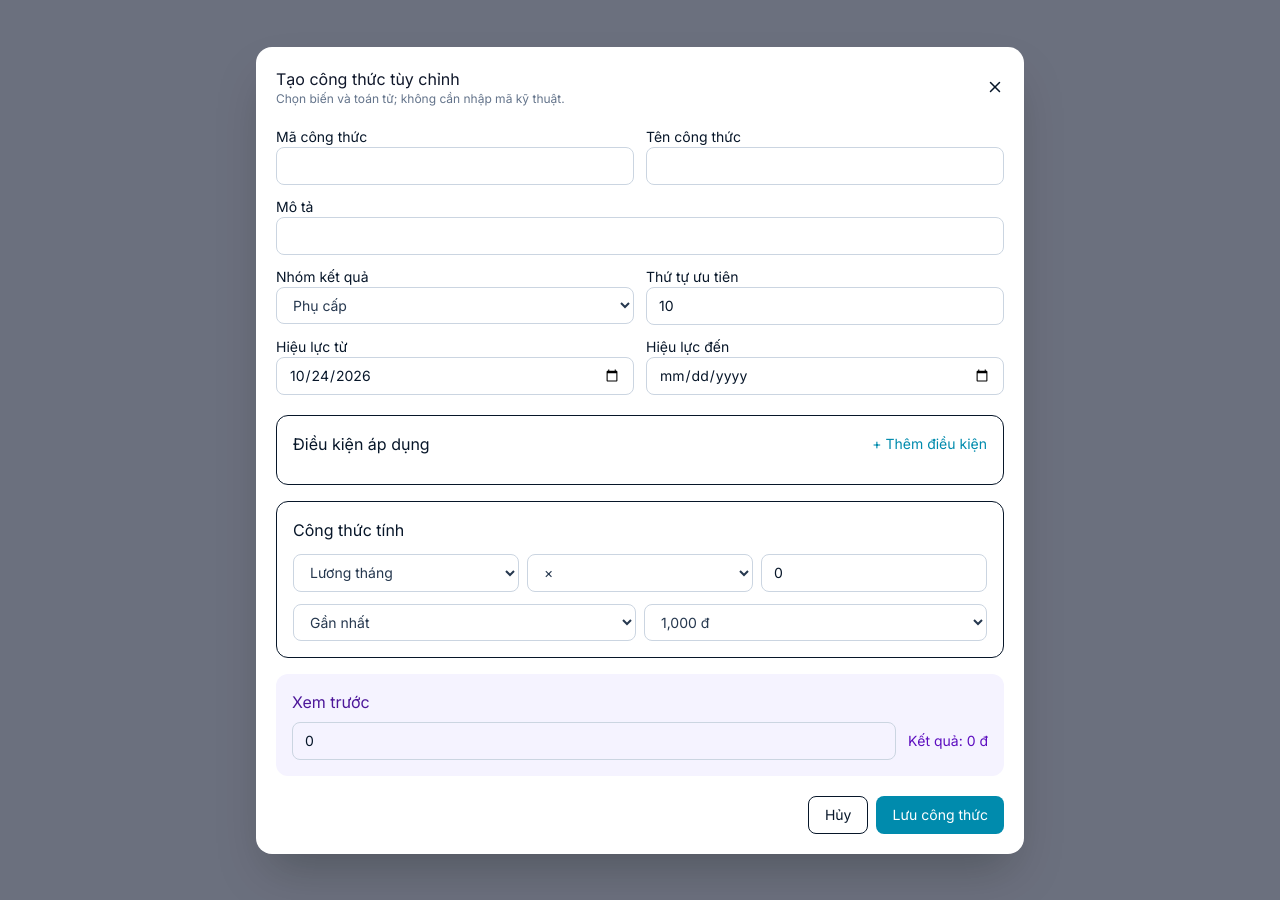
Test: PayrollFormulaModal › shows field errors instead of submitting invalid metadata
Step 1. Click the button "Lưu công thức" → (940, 814), box [876,796,1004,834]
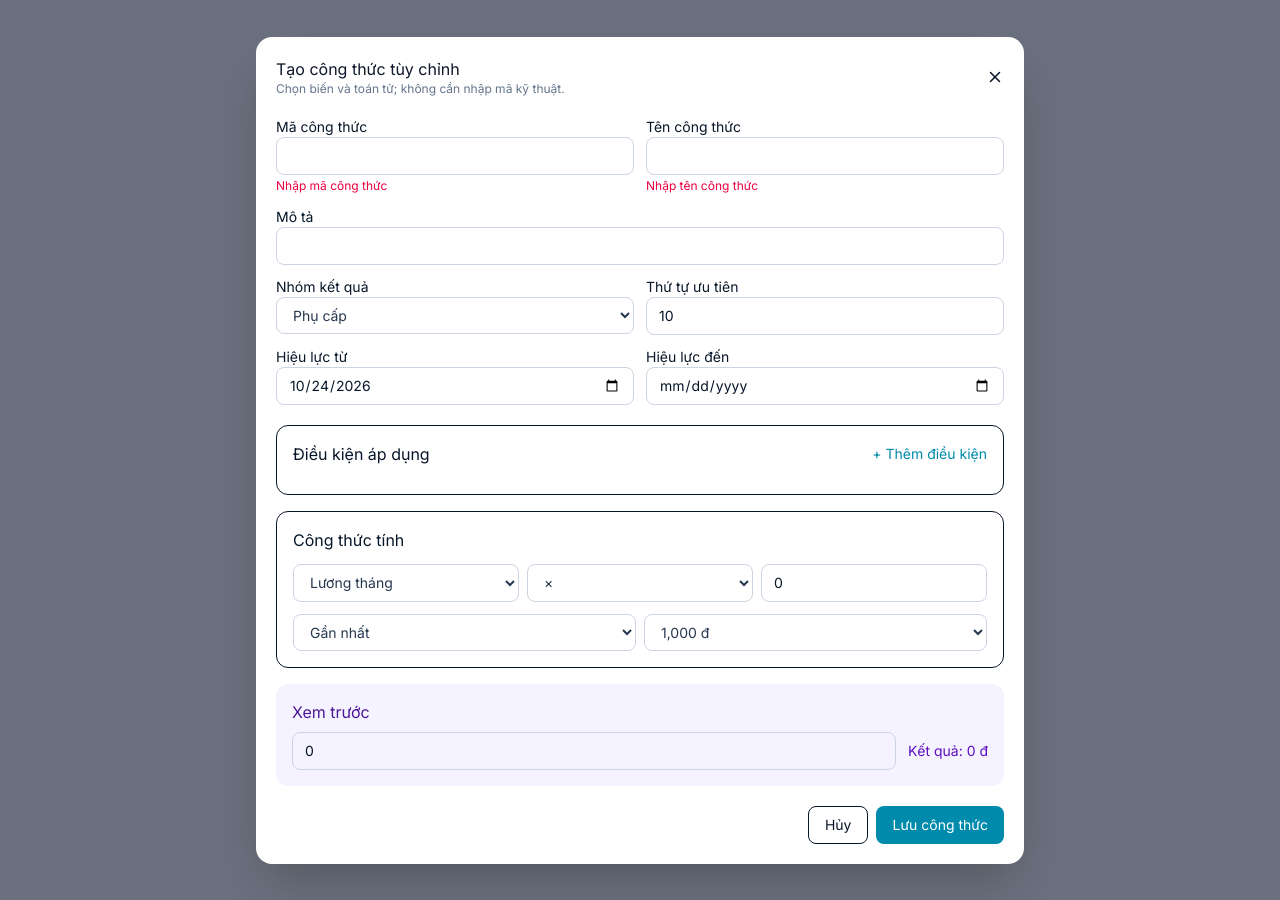
Now the text "Nhập mã công thức" is shown, box [276,178,387,192]
